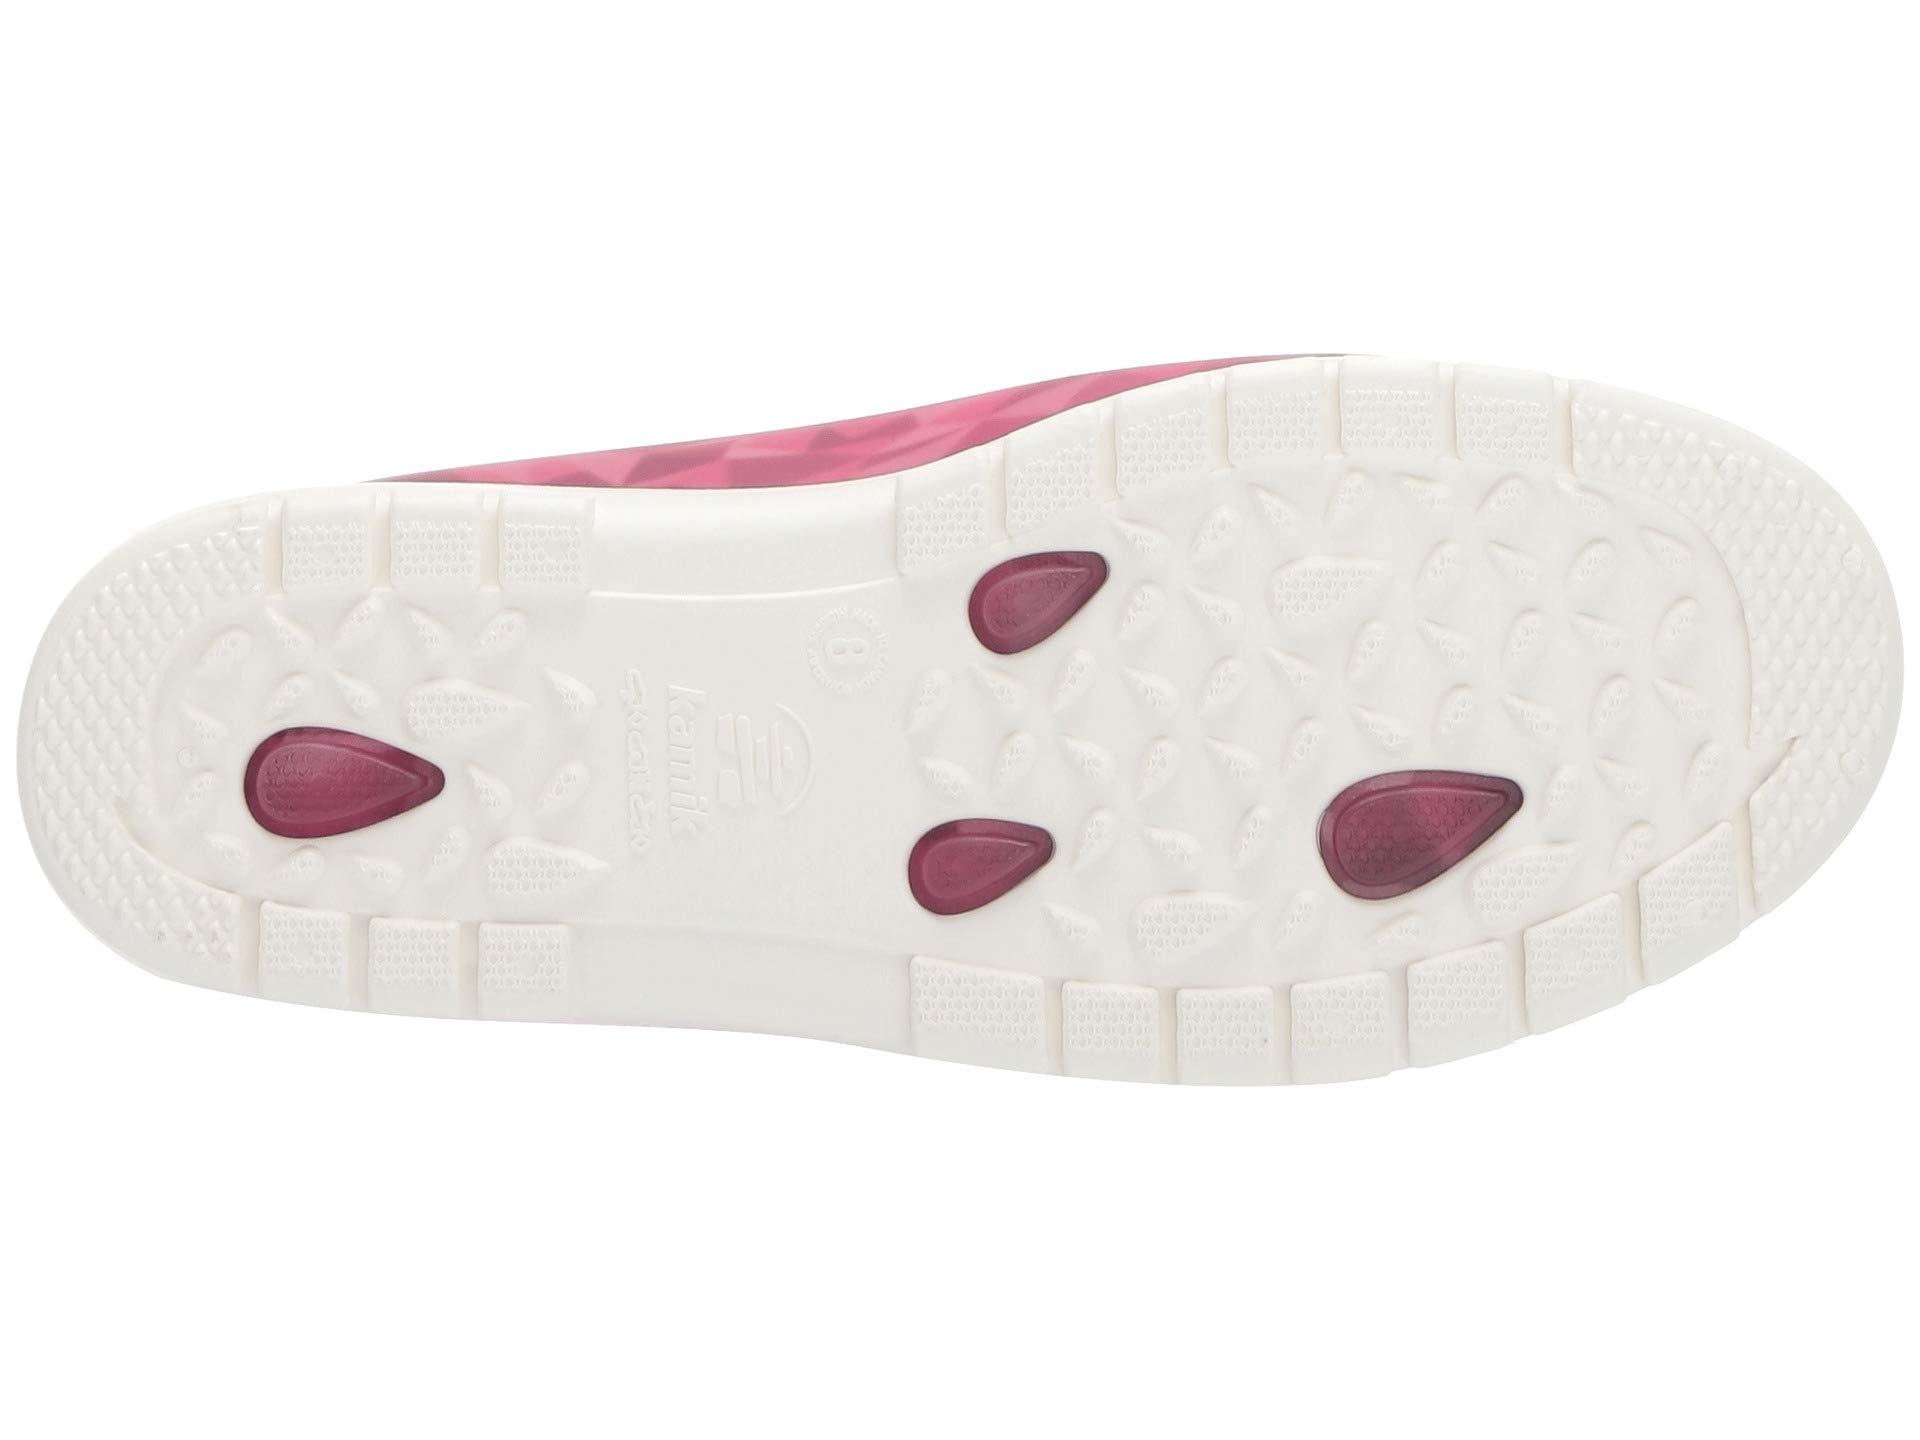circle: (773, 576, 907, 729)
text: (773, 576, 907, 729)
